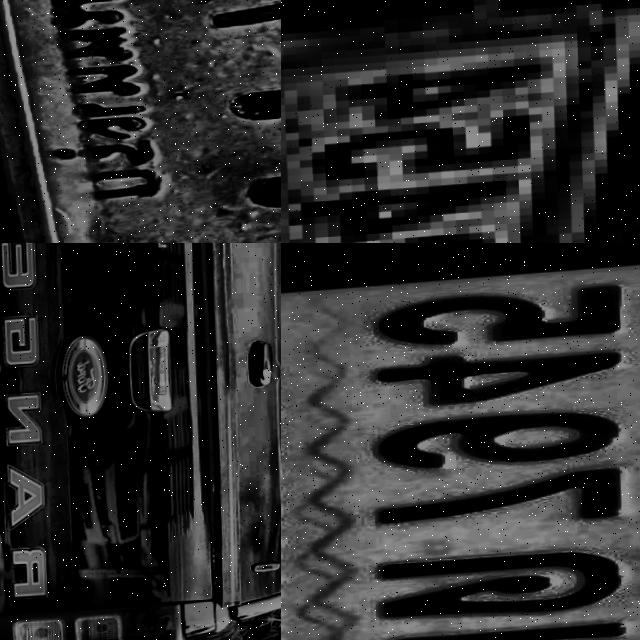license-plate: (281, 243, 640, 640), (281, 0, 640, 243), (0, 0, 281, 243)
